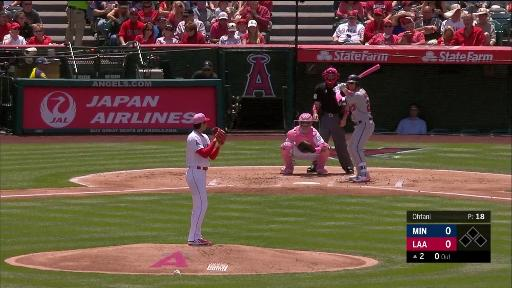pitcher: (186, 113, 227, 246)
